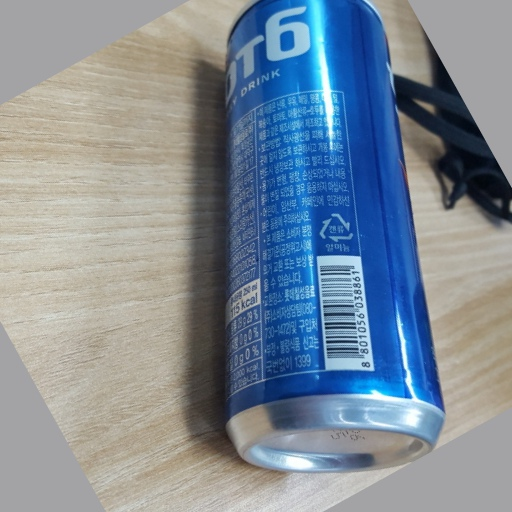Metal_0: (215, 1, 445, 472)
